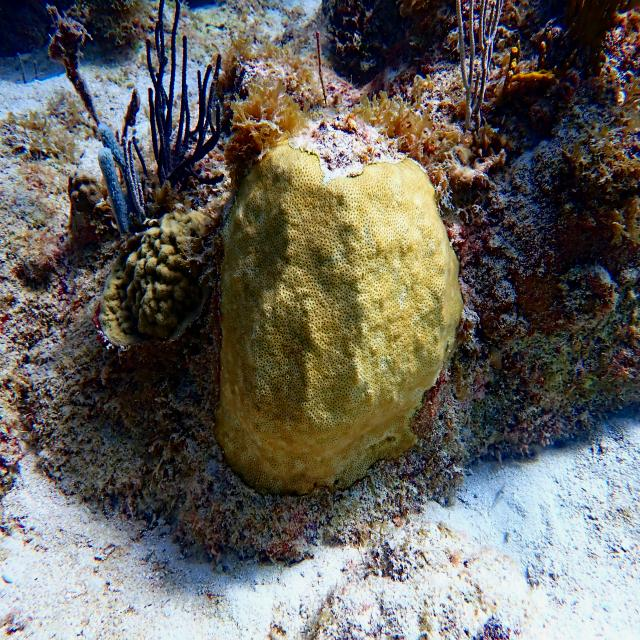Coral: (212, 137, 464, 499), (98, 209, 212, 347), (98, 119, 141, 240)
